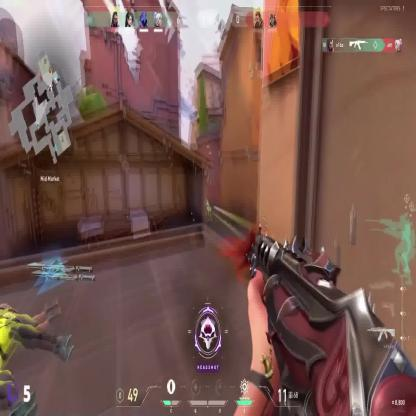enemy: (206, 201, 212, 222)
enemy_head: (207, 201, 209, 206)
